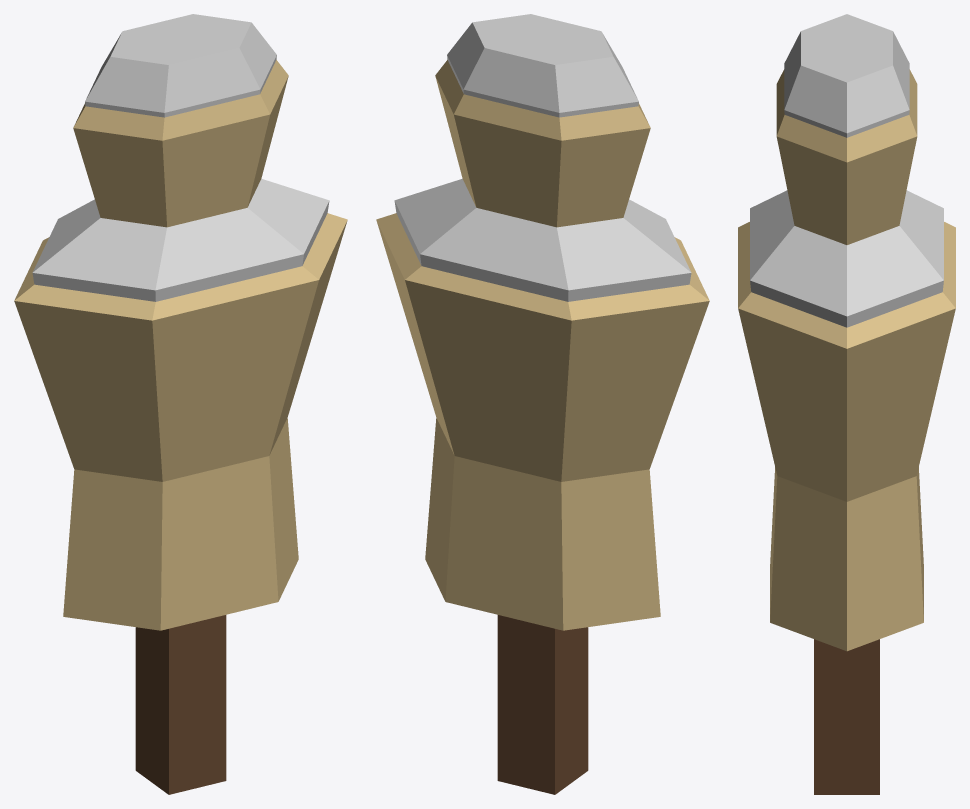
Rendered from Dummy_snow_mat.fbx.
3 views of the same model, side by side, from view 1: azimuth 30°, elevation 25°; view 2: azimuth 150°, elevation 25°; view 3: azimuth 270°, elevation 25° (orthographic).
Parts seen in each view (by area): view 1: Dummy_snow_mat; view 2: Dummy_snow_mat; view 3: Dummy_snow_mat.
Part boxes in pixels (x1,y1,x2,y2): Dummy_snow_mat: [14, 14, 347, 794]; Dummy_snow_mat: [376, 14, 709, 794]; Dummy_snow_mat: [738, 14, 955, 794].
Size of the model in its own units: 44.84 by 94.56 by 25.48.
